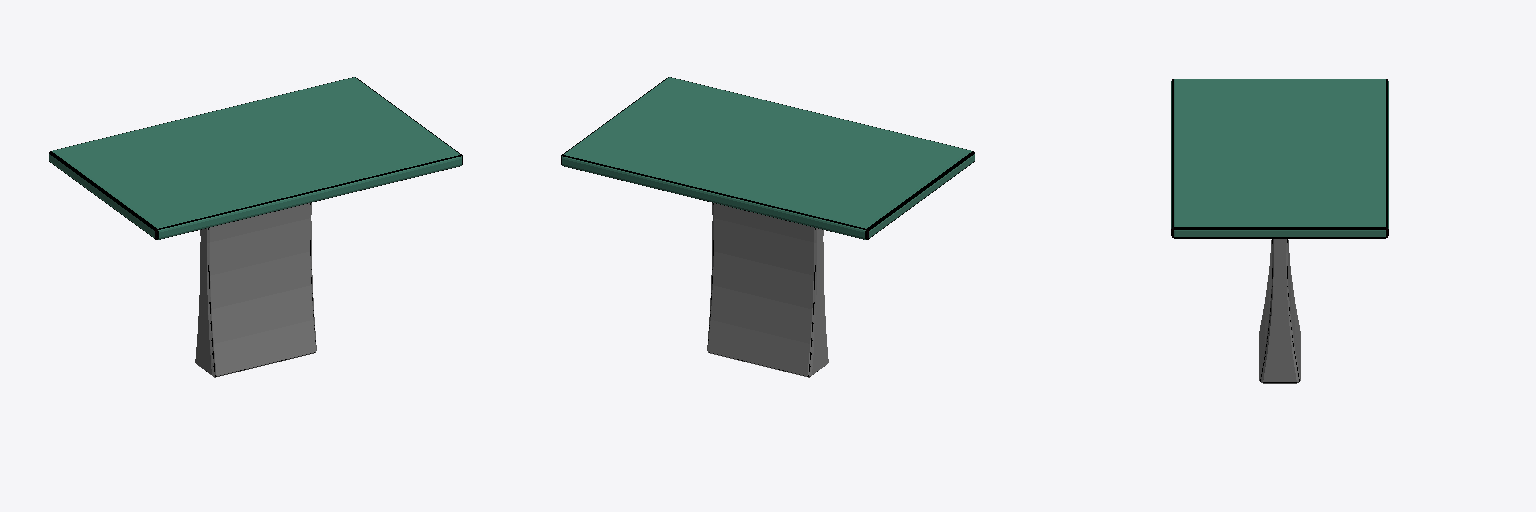
The picture shows the model from 3 angles: view 1: azimuth 30°, elevation 25°; view 2: azimuth 150°, elevation 25°; view 3: azimuth 270°, elevation 25°; orthographic projection.
Visible parts, largest first — view 1: ChamferBox001, Box003; view 2: ChamferBox001, Box003; view 3: ChamferBox001, Box003.
Part boxes in pixels (x1,y1,x2,y2): ChamferBox001: (49,77,462,239); Box003: (195,203,316,377); ChamferBox001: (561,77,974,239); Box003: (707,203,828,377); ChamferBox001: (1171,79,1388,238); Box003: (1259,239,1300,383).
Size of the model in its own units: 70.87 by 45.32 by 43.31.
2 materials, 2 textured.